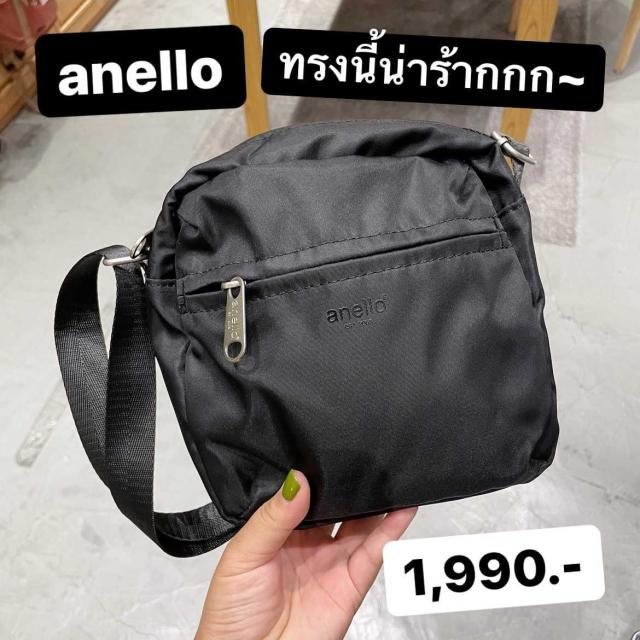Handbag: (159, 115, 573, 541)
